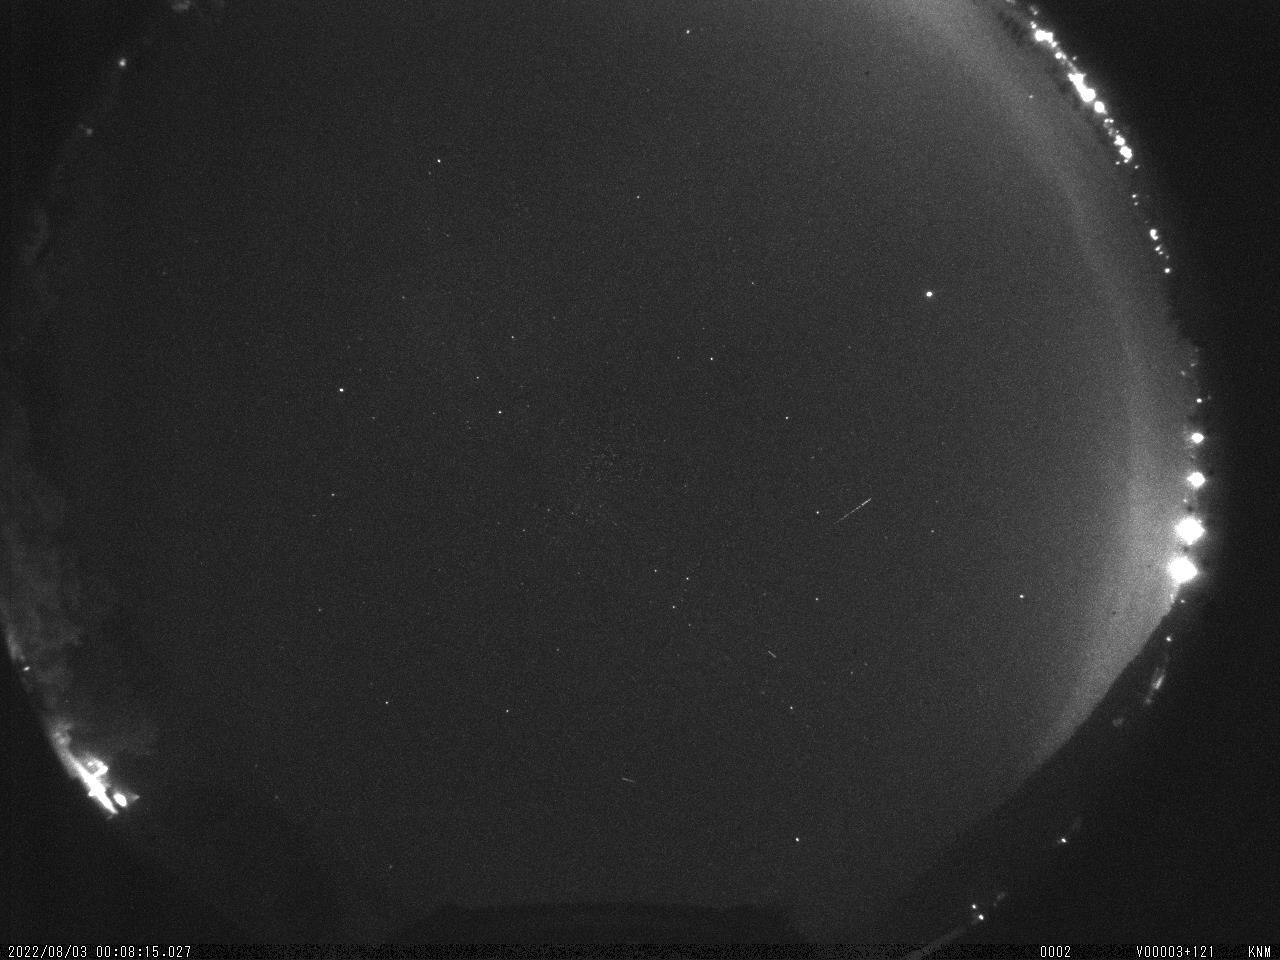Meteor: (828, 488, 883, 531)
